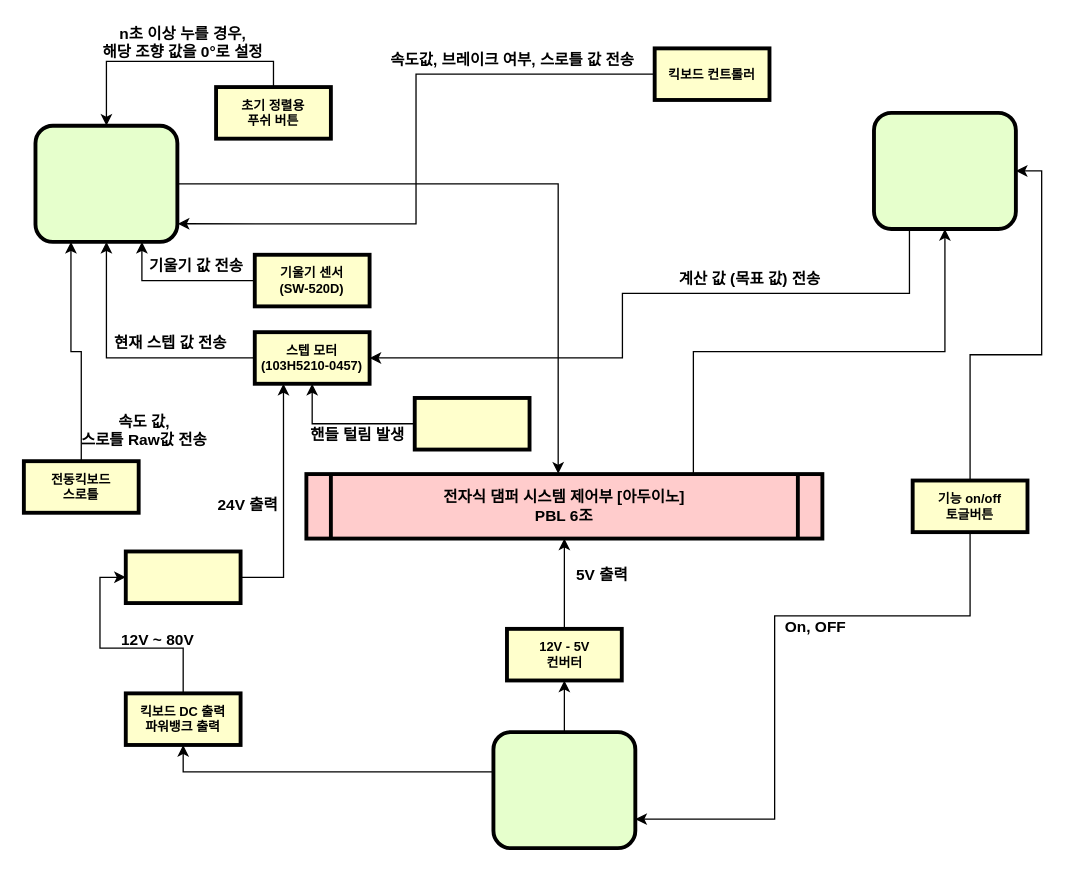
Some shapes in this 1075 by 872 pixel diagram are drawn without their labels. Here are the shapes that lost their labels. From the top down, the centre of each, then its label:
point 106,183: 센싱부 모터의 스텝 값을 실시간으로 전송
point 944,170: 제어부 스텝모터를 이용해 핸들 털림 방지
point 471,423: 외력 (포트홀, 방지턱 등)
point 182,576: 12V - 24V 컨버터
point 564,789: 전원부 킥보드의 12V 출력을 이용, OR 파워뱅크 사용
